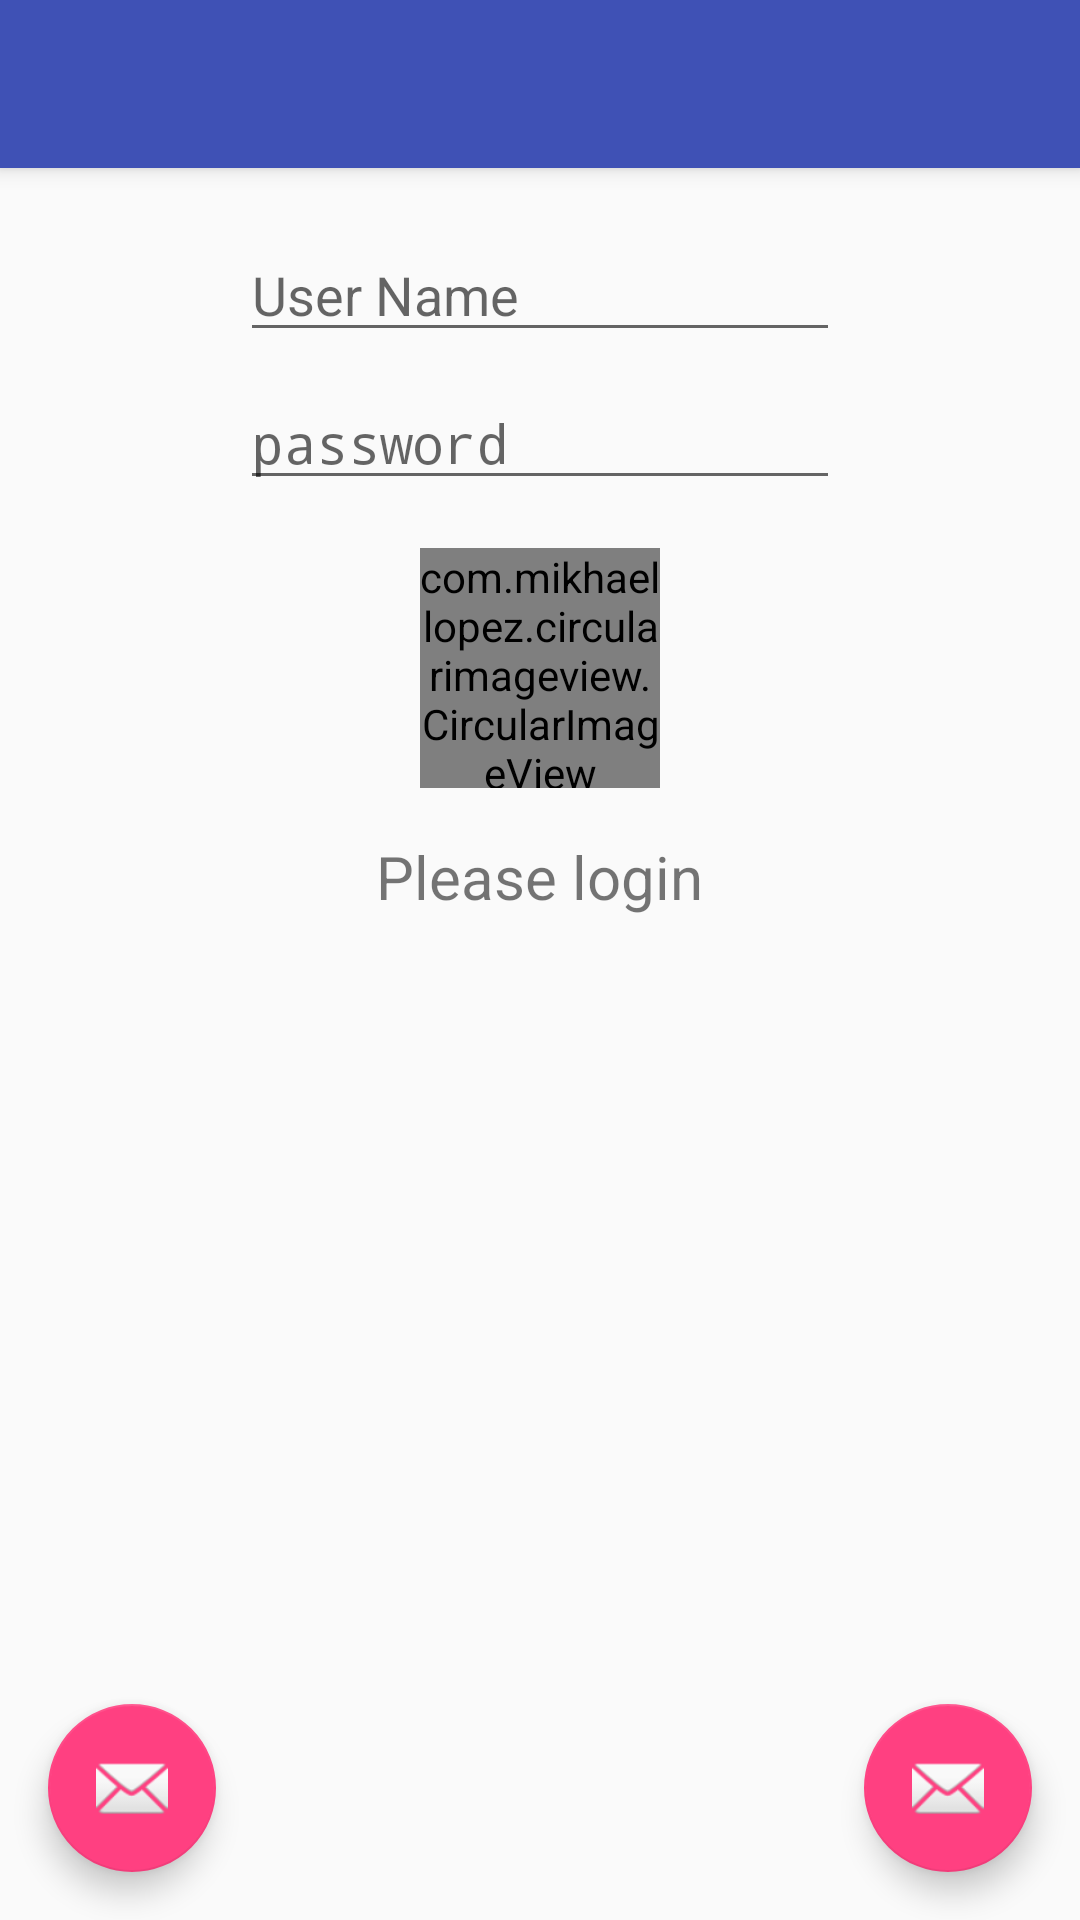

Named icons in this screenshot (1080w x 1920h) and their centers, (x,y):
email: (132,1788), (948,1788)
